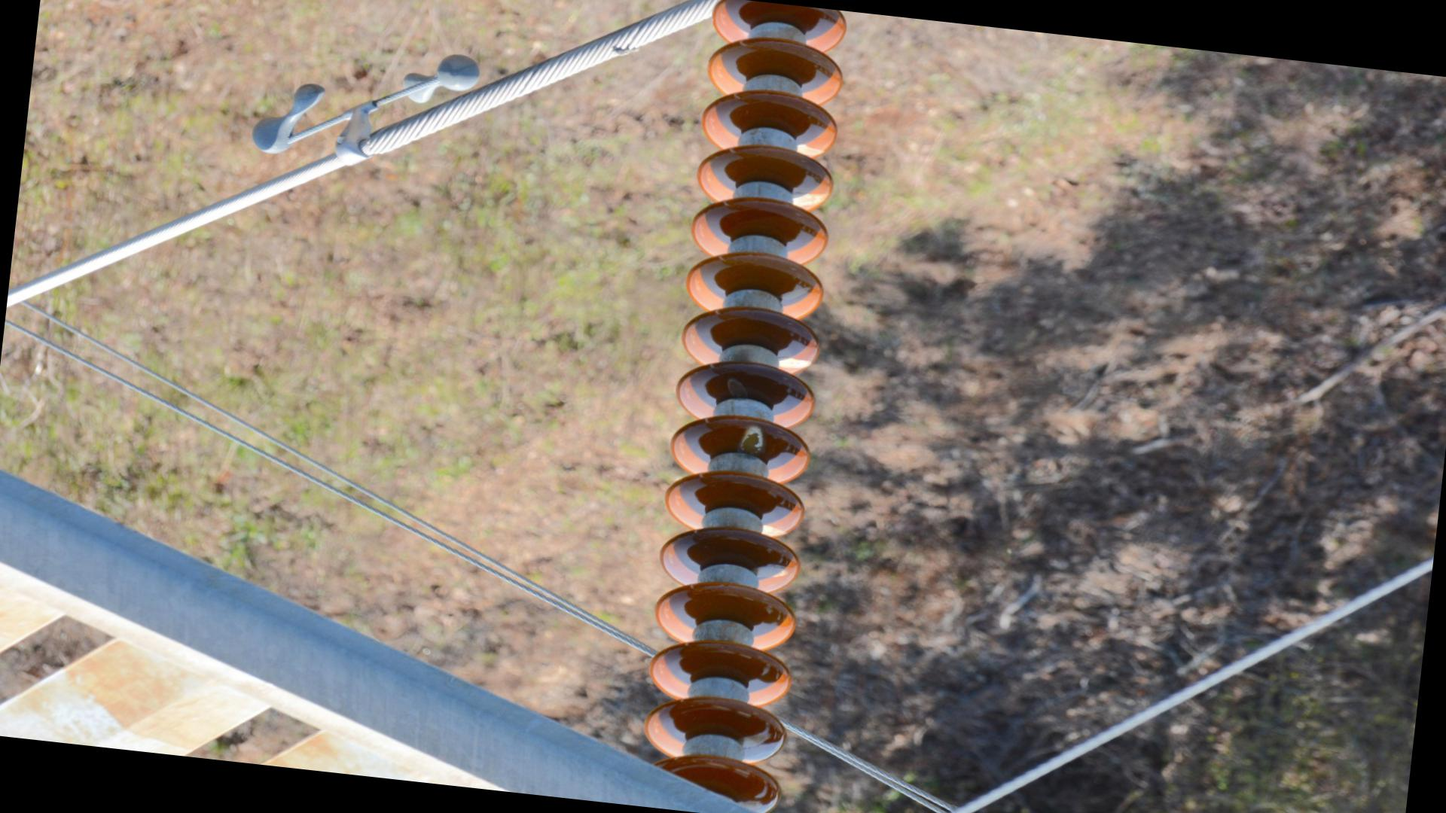damper: (245, 29, 488, 184)
